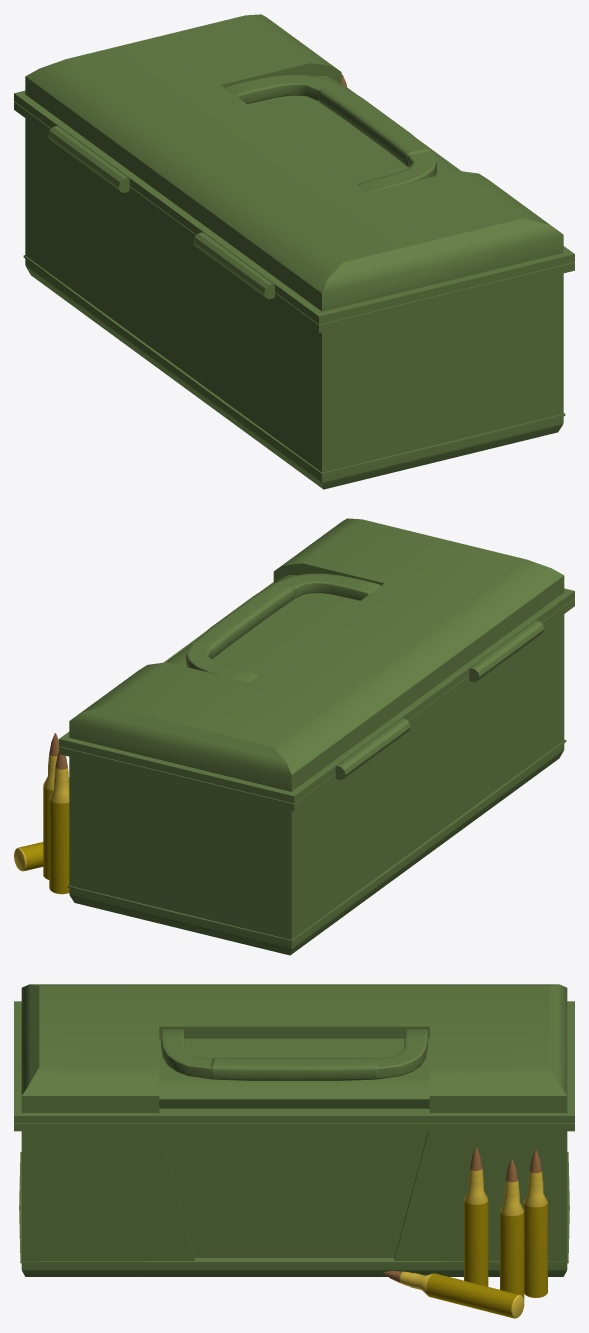
Rendered from SM_AmmoBox01.fbx.
3 views of the same model, one above another, from view 1: azimuth 30°, elevation 25°; view 2: azimuth 150°, elevation 25°; view 3: azimuth 270°, elevation 25° (orthographic). The views are drawn at different scales.
Visible parts, largest first — view 1: polySurface7; view 2: polySurface7; view 3: polySurface7.
Part boxes in pixels (x1=…): polySurface7: x1=14, y1=14, x2=574, y2=489; polySurface7: x1=14, y1=518, x2=574, y2=955; polySurface7: x1=14, y1=984, x2=574, y2=1318.
Size of the model in its own units: 1.45 by 0.8689 by 2.19.
